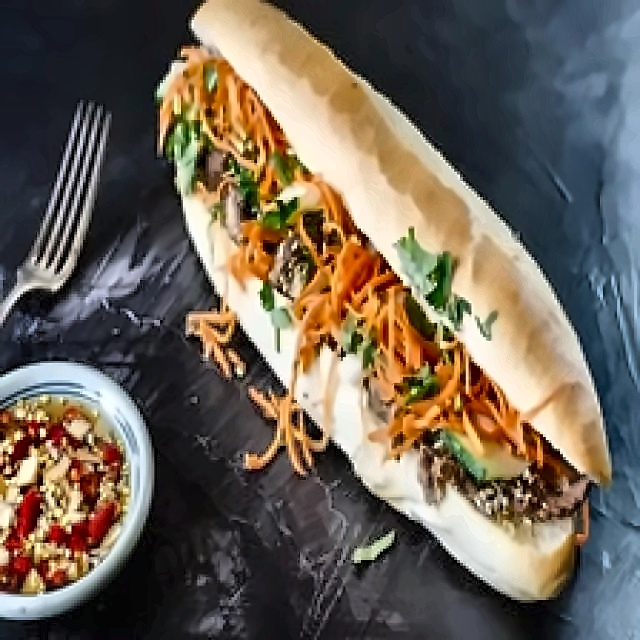bread: (449, 213, 614, 482), (344, 118, 488, 322), (211, 16, 393, 176)
